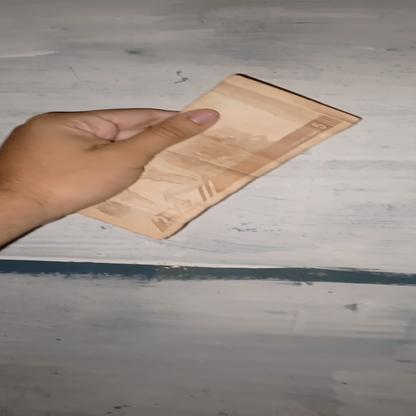five-back-vef: (77, 76, 361, 240)
